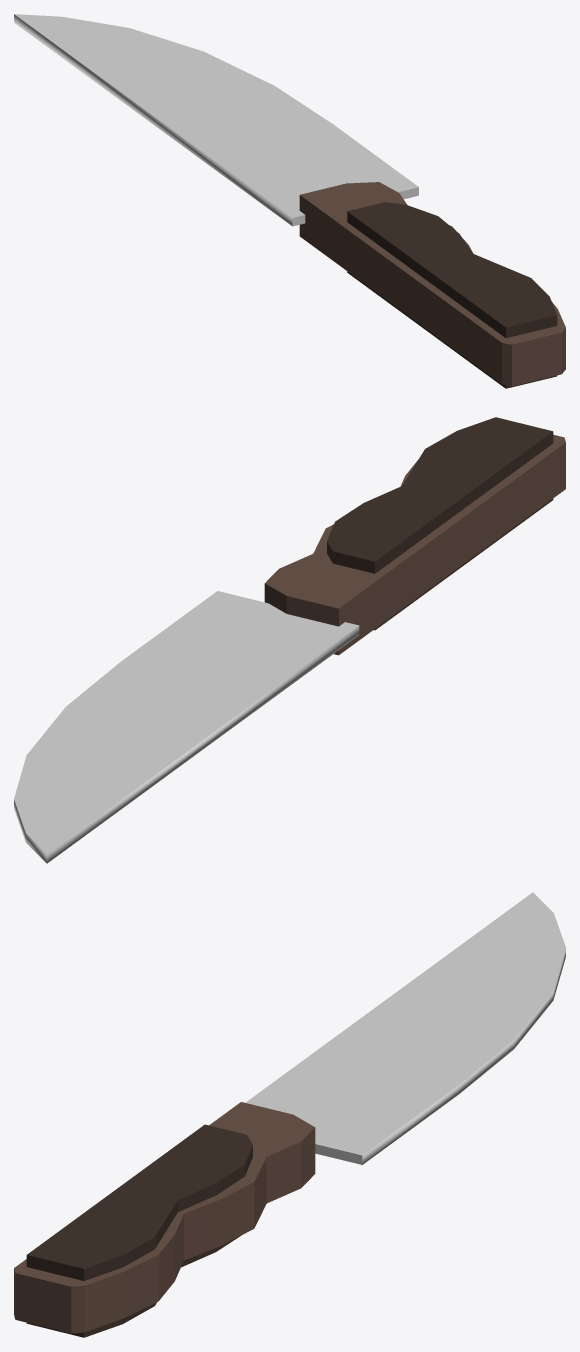
The model's file is knife_1.glb.
The picture shows the model from 3 angles, top to bottom: view 1: azimuth 30°, elevation 25°; view 2: azimuth 150°, elevation 25°; view 3: azimuth 330°, elevation 25°; orthographic projection. The views are drawn at different scales.
Visible parts, largest first — view 1: Knife (Med); view 2: Knife (Med); view 3: Knife (Med).
Part boxes in pixels (x1,y1,x2,y2): Knife (Med): [14, 14, 565, 388]; Knife (Med): [14, 417, 565, 863]; Knife (Med): [14, 892, 565, 1337].
Bounding box in the file's own units: 0.04 × 0.0185 × 0.2627.
Materials: 1 (1 with a texture image).
